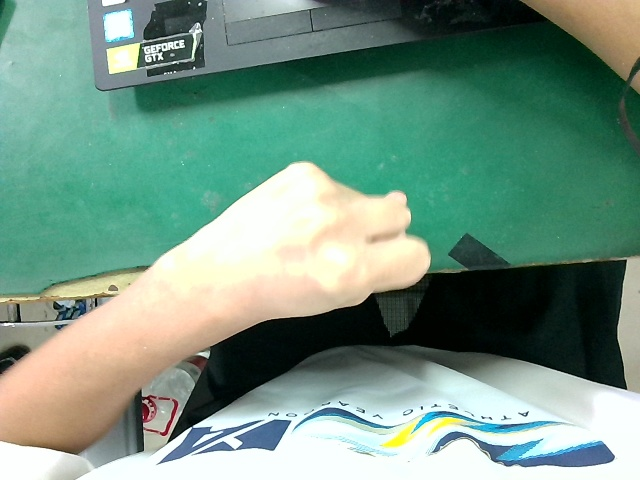stone: (190, 146, 440, 351)
